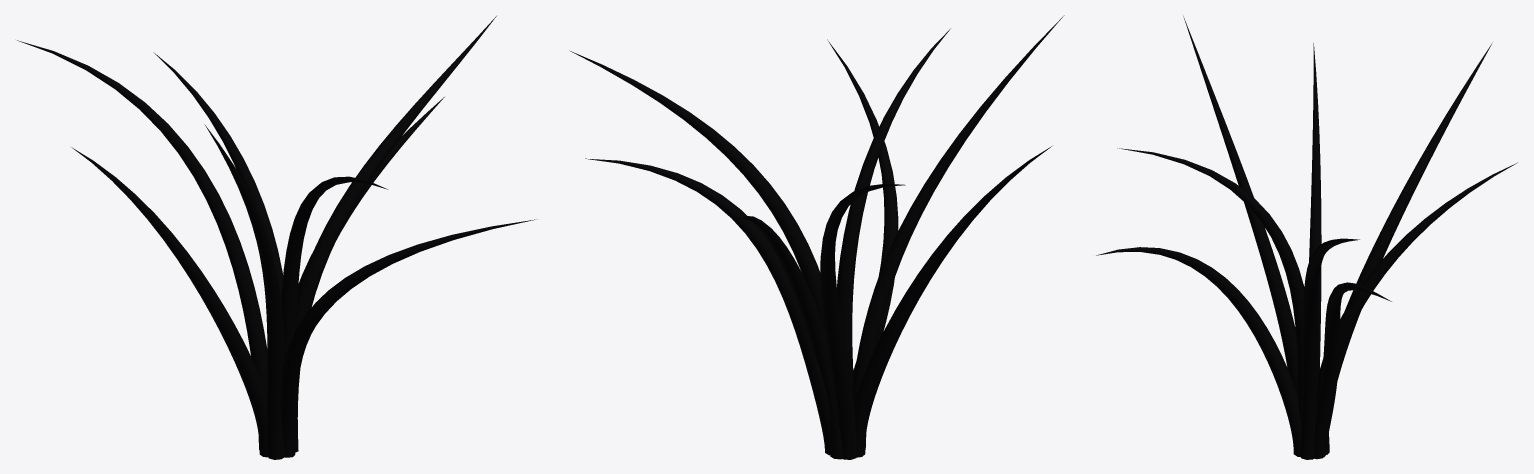
File: 01-Baby-Hair-87848056624320.glb
3 views of the same model, side by side, from view 1: azimuth 30°, elevation 25°; view 2: azimuth 150°, elevation 25°; view 3: azimuth 270°, elevation 25° (orthographic). The views are drawn at different scales.
Parts seen in each view (by area): view 1: Baby-Hair; view 2: Baby-Hair; view 3: Baby-Hair.
Boxes of the visible parts, bbox=[...] form: Baby-Hair: bbox=[17, 16, 536, 459]; Baby-Hair: bbox=[569, 15, 1064, 459]; Baby-Hair: bbox=[1096, 16, 1517, 459].
Bounding box in the file's own units: 0.5771 × 0.5066 × 0.5195.
Materials: 1 (1 with a texture image).
